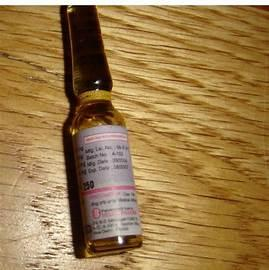Syringe: (55, 8, 146, 258)
